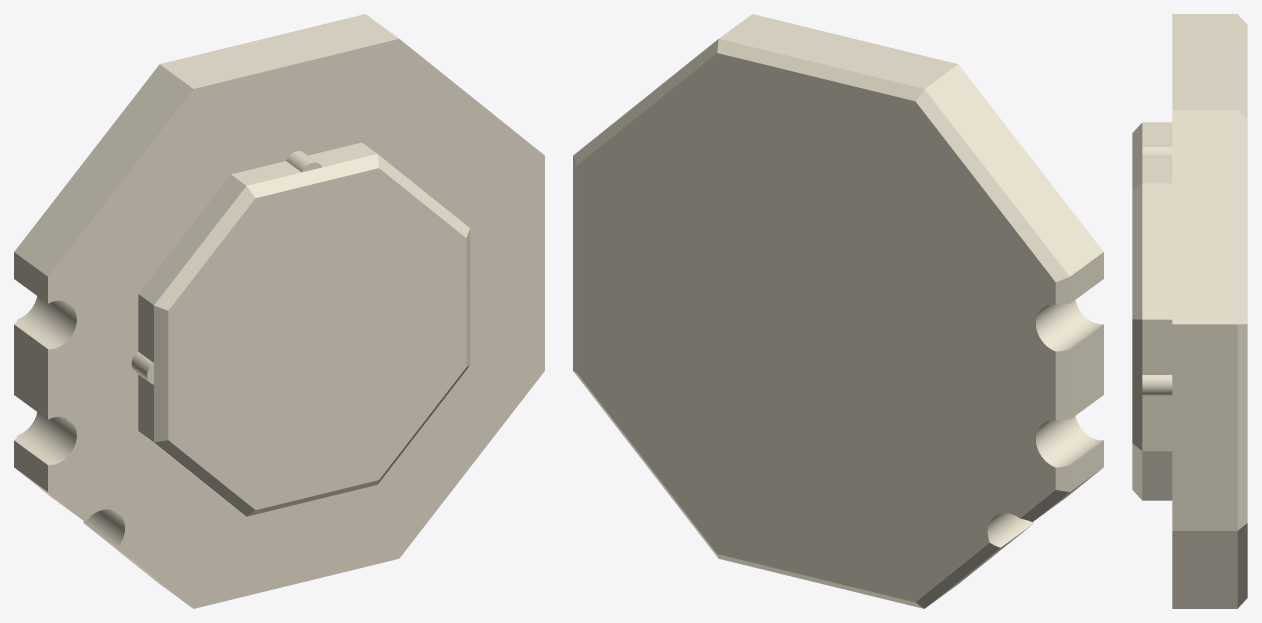
Rendered from coupon-boss-key-r30@ivory.glb.
The picture shows the model from 3 angles, left to right: view 1: azimuth 30°, elevation 25°; view 2: azimuth 150°, elevation 25°; view 3: azimuth 270°, elevation 25°; orthographic projection. The views are drawn at different scales.
Parts seen in each view (by area): view 1: geometry_0; view 2: geometry_0; view 3: geometry_0.
Boxes of the visible parts, box(x1,y1,x2,y2) form: geometry_0: box(14, 14, 544, 608); geometry_0: box(573, 14, 1103, 608); geometry_0: box(1132, 14, 1247, 608).
Bounding box in the file's own units: 22 × 22 × 4.6.
